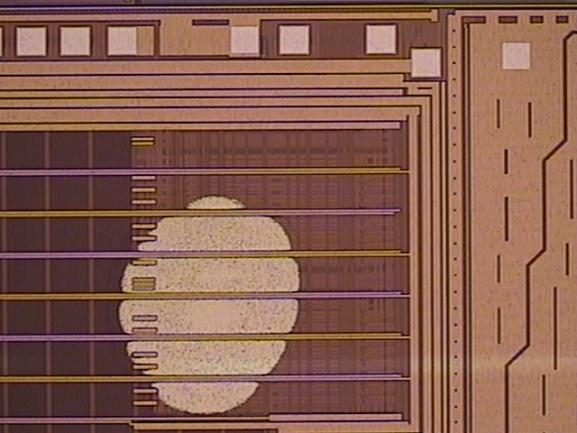BLOCK ETCH: (110, 186, 312, 421)
